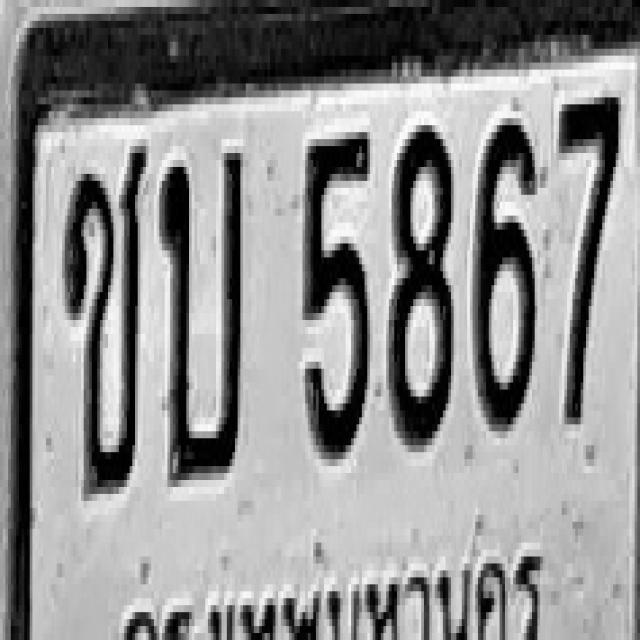19ChorChang: (64, 139, 144, 494)
35BorBaiMai: (159, 146, 243, 480)
5: (302, 128, 370, 456)
6: (474, 118, 536, 424)
7: (559, 90, 618, 424)
8: (388, 125, 452, 445)
